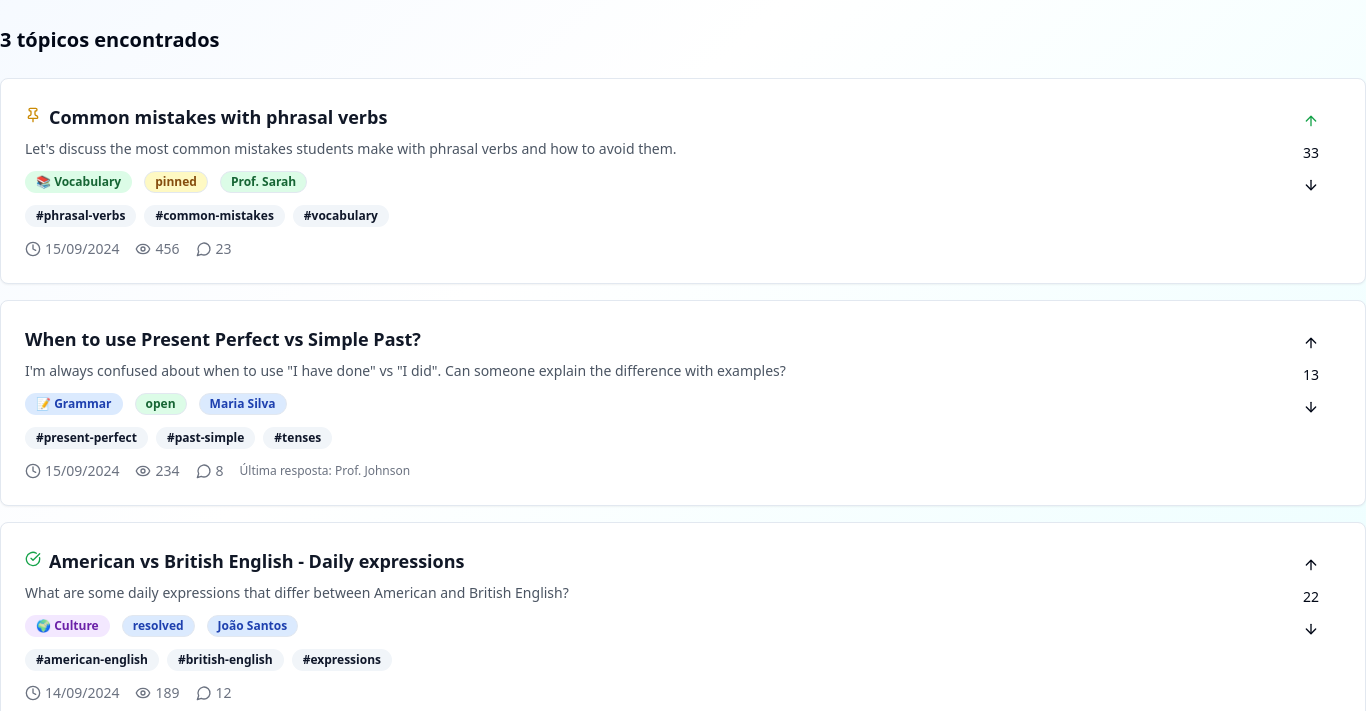
Forum Component › Reply System › should create a reply successfully
The image size is (1366, 711).
(page scrolled)
# Navigate to topic detail
Click the heading "When to use Present Perfect vs Simple Past?": (223, 339) [25,325,421,353]
(page scrolled)
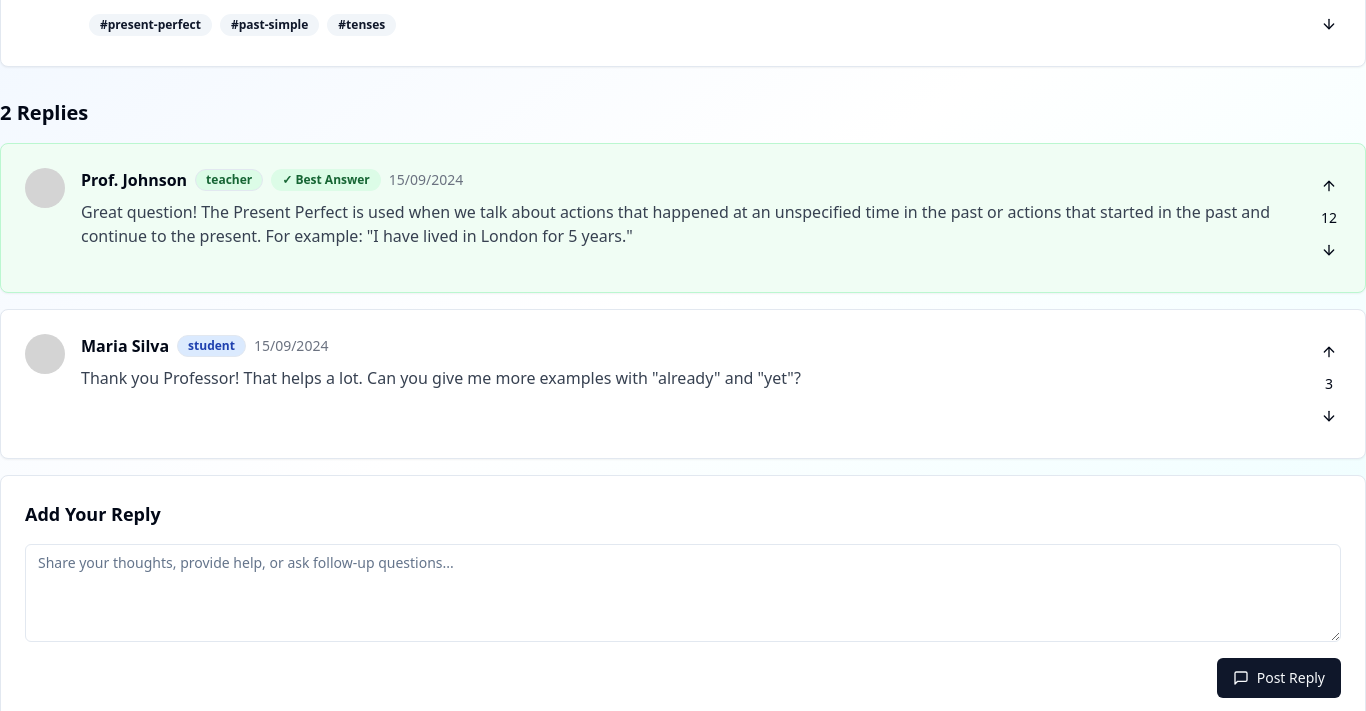
# Add a reply
In the text box with placeholder "Share your thoughts, provide help, or ask follow-up questions...": (683, 593) [25,544,1341,642], type "This is my reply to the topic"
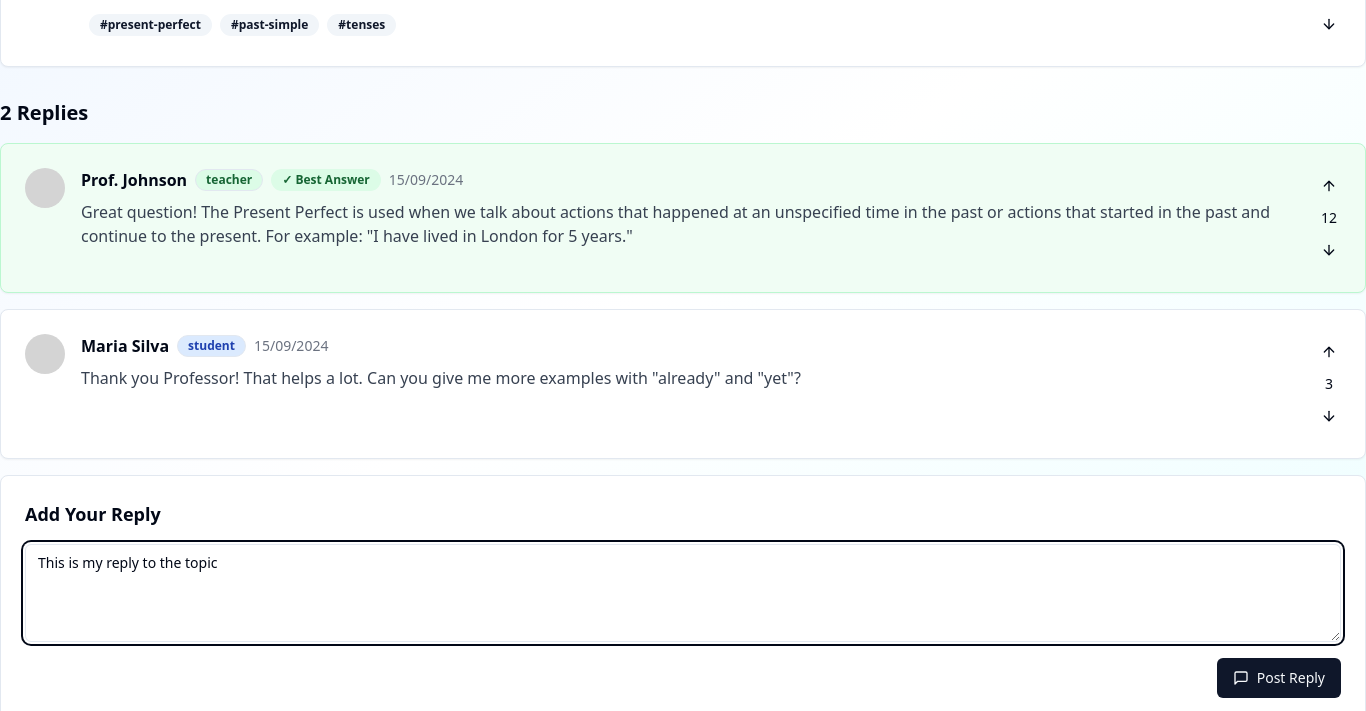
Click the button "Post Reply": (1279, 678) [1217,658,1341,698]
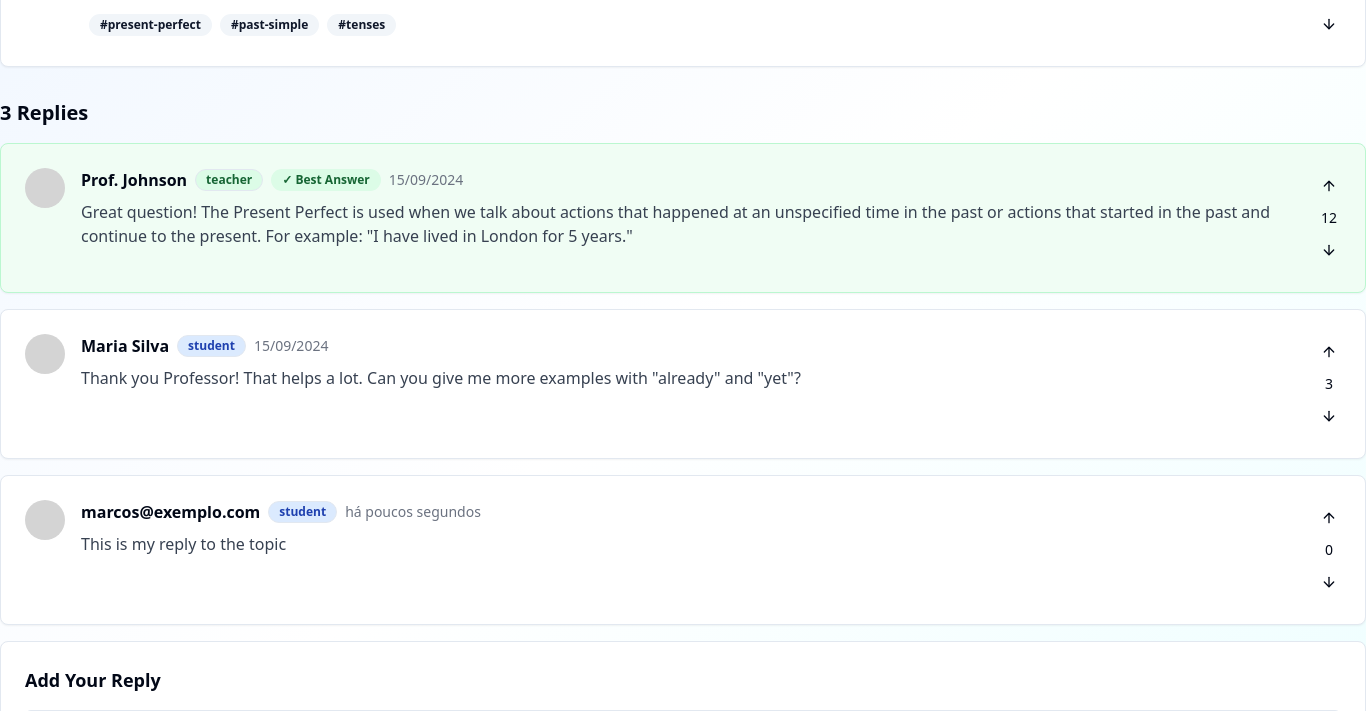
Expected: the text "This is my reply to the topic" is shown, [81,533,286,555]
